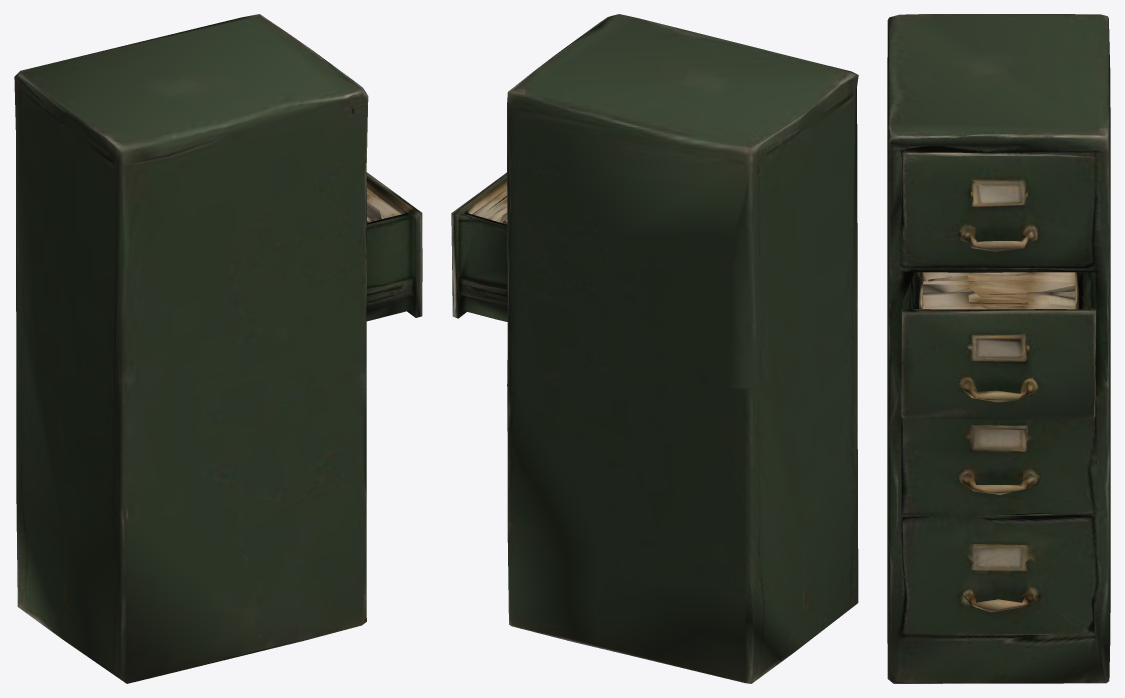
The model's file is prop_filing_cabinet.glb.
3 renders of one model, left to right at view 1: azimuth 30°, elevation 25°; view 2: azimuth 150°, elevation 25°; view 3: azimuth 270°, elevation 25°, orthographic. The views are drawn at different scales.
Visible parts, largest first — view 1: tripo_node_a4c8c5c6-d540-4fa9-8d8d-8b0ec386566e; view 2: tripo_node_a4c8c5c6-d540-4fa9-8d8d-8b0ec386566e; view 3: tripo_node_a4c8c5c6-d540-4fa9-8d8d-8b0ec386566e.
Part boxes in pixels (<box>): tripo_node_a4c8c5c6-d540-4fa9-8d8d-8b0ec386566e: <box>14,14,422,683</box>; tripo_node_a4c8c5c6-d540-4fa9-8d8d-8b0ec386566e: <box>451,14,858,683</box>; tripo_node_a4c8c5c6-d540-4fa9-8d8d-8b0ec386566e: <box>887,14,1110,683</box>.
Size of the model in its own units: 0.6277 by 0.9998 by 0.3673.
1 material, 1 textured.
